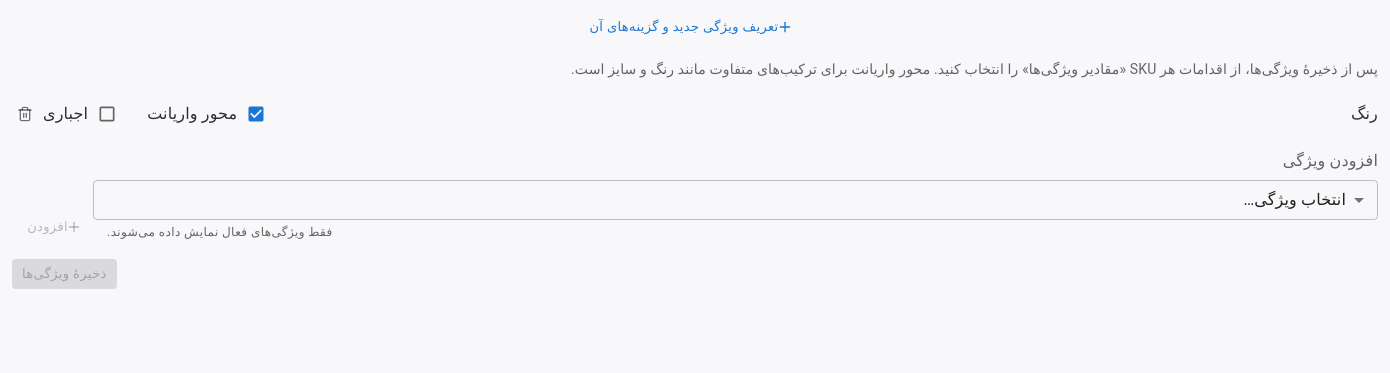
Test: AttributeConfigEditor › refreshes on a version conflict and surfaces other API errors
The width and height of the screenshot is (1390, 373).
Step 1. Click the checkbox named "color محور واریانت" → (207, 114), box [147,104,266,124]
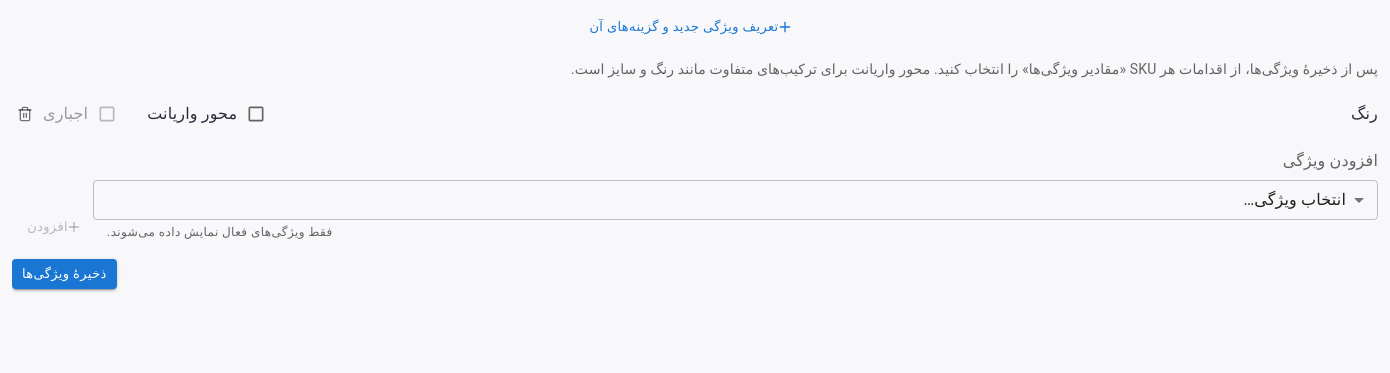
Step 2. Click the button "ذخیرهٔ ویژگی‌ها" → (64, 274), box [12,259,117,290]
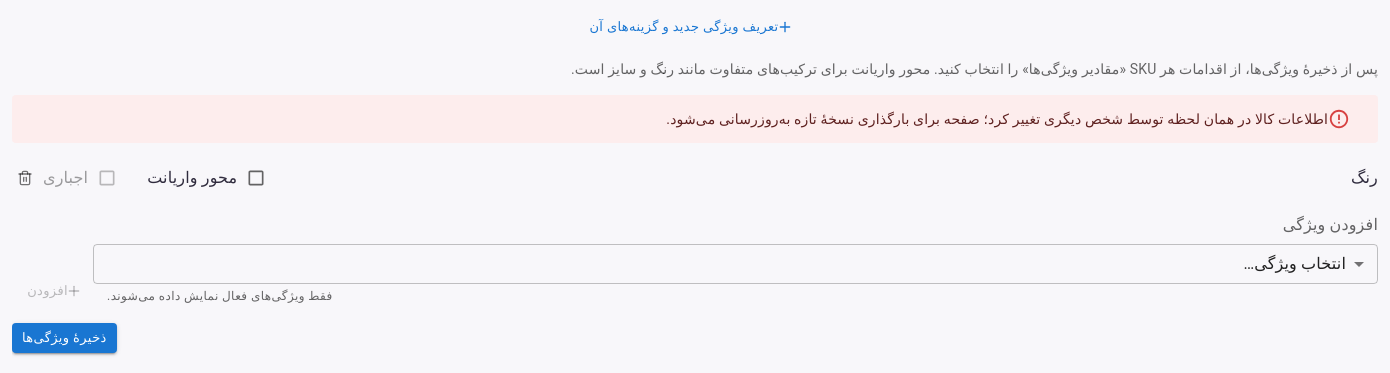
Expected: the text "اطلاعات کالا در همان لحظه توسط شخص دیگری تغییر کرد؛ صفحه برای بارگذاری نسخهٔ تازه به‌روزرسانی می‌شود." is shown, [666,111,1328,127]
Step 3. Click the button "ذخیرهٔ ویژگی‌ها" → (64, 338), box [12,323,117,354]
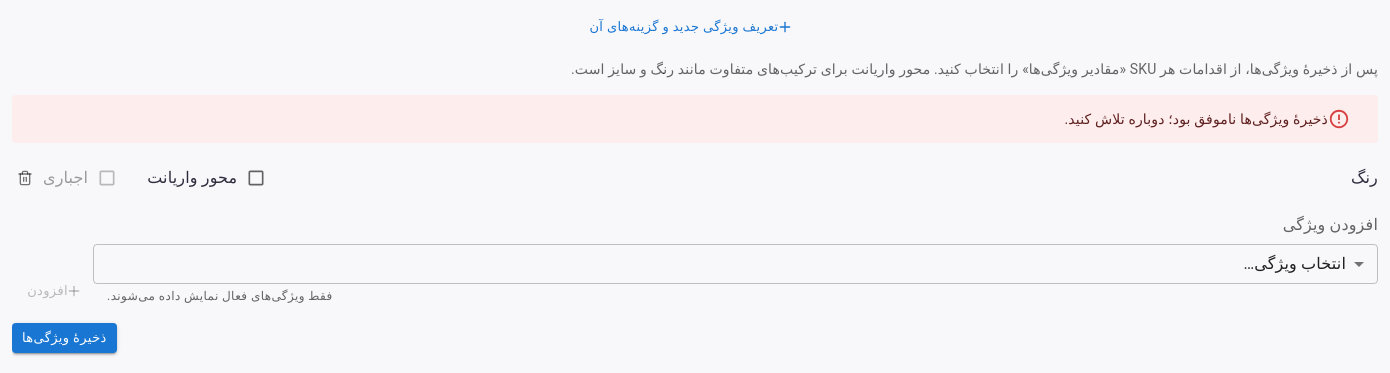
Expected: the text "ذخیرهٔ ویژگی‌ها ناموفق بود؛ دوباره تلاش کنید." is shown, [1064,111,1328,127]
